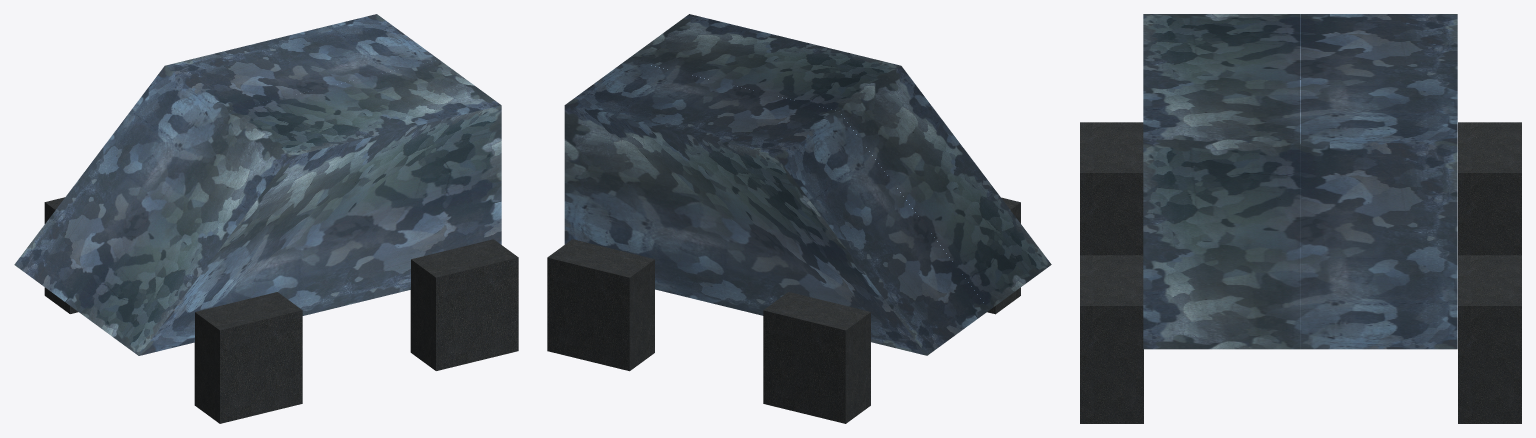
Rendered from harvester.obj.
The picture shows the model from 3 angles, left to right: view 1: azimuth 30°, elevation 25°; view 2: azimuth 150°, elevation 25°; view 3: azimuth 270°, elevation 25°; orthographic projection. The views are drawn at different scales.
Visible parts, largest first — view 1: (null); view 2: (null); view 3: (null).
Part boxes in pixels (x1=…): (null): x1=14, y1=14, x2=518, y2=423; (null): x1=547, y1=14, x2=1051, y2=423; (null): x1=1080, y1=14, x2=1521, y2=423.
Bounding box in the file's own units: 102 × 60.41 × 85.07.
